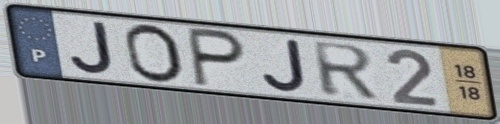2: (384, 47, 441, 109)
J: (68, 20, 118, 77), (260, 37, 310, 94)
O: (121, 22, 187, 85)
P: (185, 24, 249, 90)
R: (308, 40, 382, 101)
